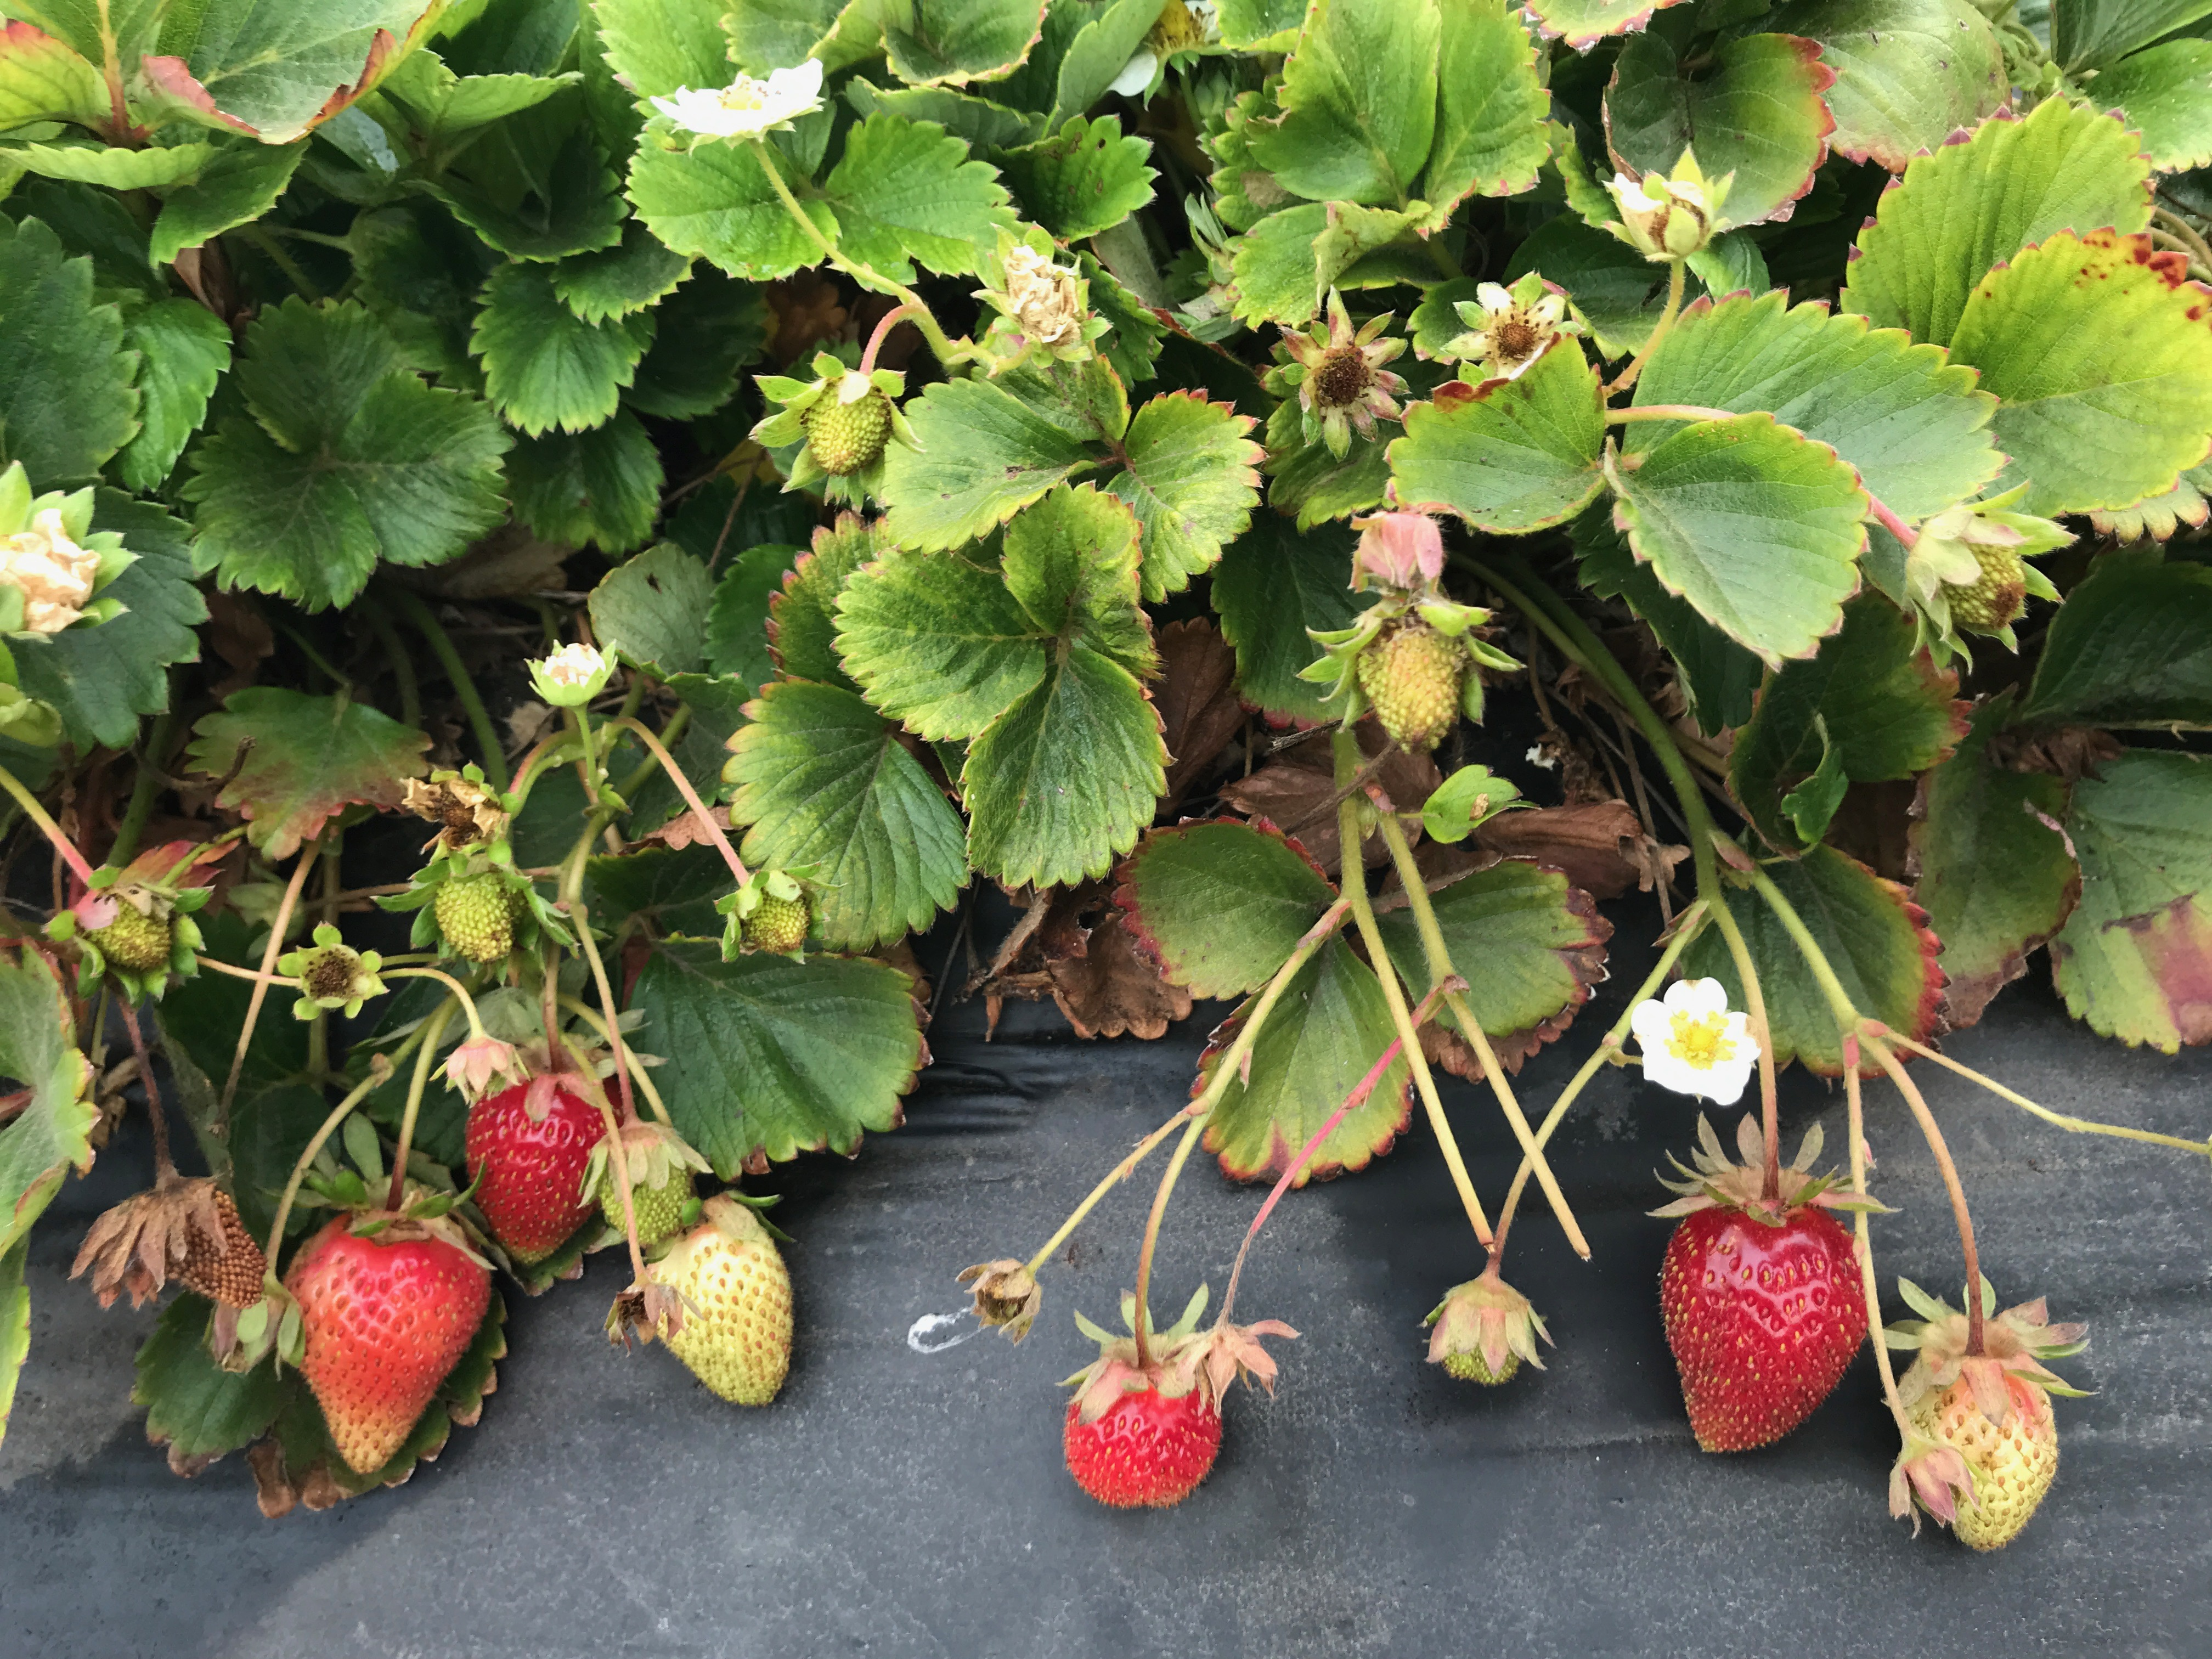ripe_strawberry: (268, 1187, 502, 1486), (1658, 1169, 1874, 1462), (458, 1032, 632, 1276), (1061, 1333, 1228, 1518)
unripe_strawberry: (1897, 1324, 2066, 1554), (641, 1190, 805, 1415), (1350, 591, 1482, 762), (789, 362, 904, 490), (1911, 521, 2034, 638), (589, 1122, 697, 1249), (1426, 1270, 1536, 1389), (423, 856, 529, 972), (71, 884, 183, 981), (723, 873, 824, 962)
